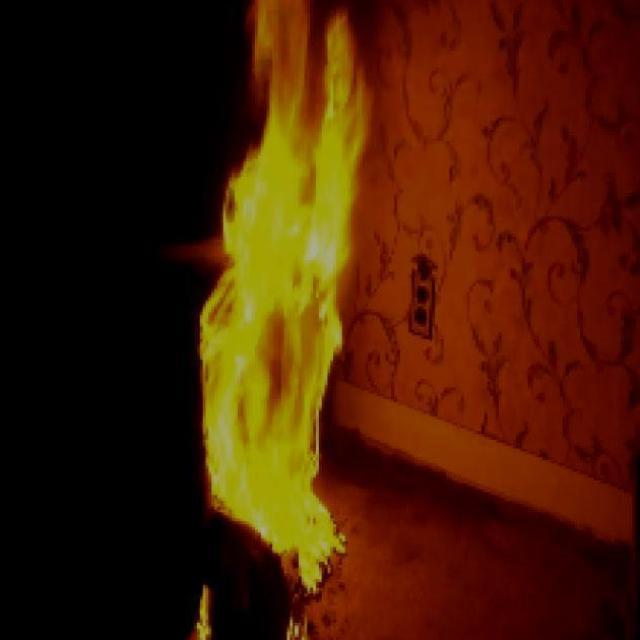smoke: (195, 0, 378, 593)
